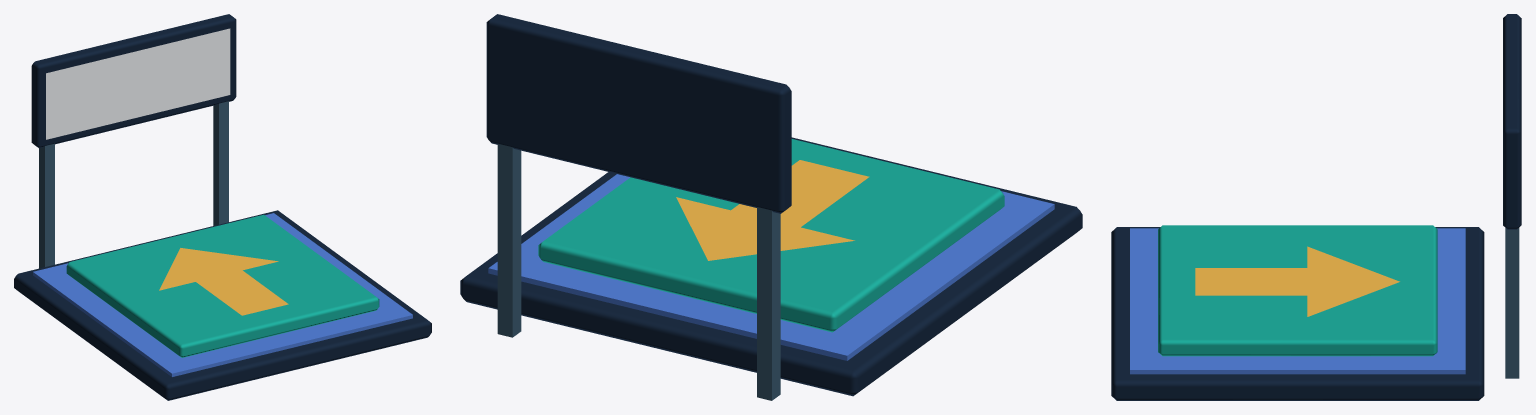
Rendered from CM_Tycoon_UpgradePad.fbx.
3 renders of one model, left to right at view 1: azimuth 30°, elevation 25°; view 2: azimuth 150°, elevation 25°; view 3: azimuth 270°, elevation 25°, orthographic. The views are drawn at different scales.
Parts seen in each view (by area): view 1: Button, Base, PriceBoard, Body; view 2: Button, PriceBoard, Base, Body; view 3: Button, Base, PriceBoard, Body.
Part boxes in pixels (x1=…): Button: x1=66, y1=214, x2=379, y2=357; Base: x1=14, y1=210, x2=431, y2=400; PriceBoard: x1=31, y1=14, x2=236, y2=147; Body: x1=39, y1=101, x2=228, y2=268; Button: x1=538, y1=139, x2=1004, y2=332; PriceBoard: x1=486, y1=14, x2=791, y2=213; Base: x1=460, y1=137, x2=1082, y2=396; Body: x1=497, y1=144, x2=780, y2=400; Button: x1=1158, y1=225, x2=1437, y2=356; Base: x1=1111, y1=227, x2=1484, y2=400; PriceBoard: x1=1503, y1=14, x2=1521, y2=229; Body: x1=1505, y1=228, x2=1519, y2=378.
Bounding box in the file's own units: 8 × 8.8 × 6.
Materials: 1 (1 with a texture image).
